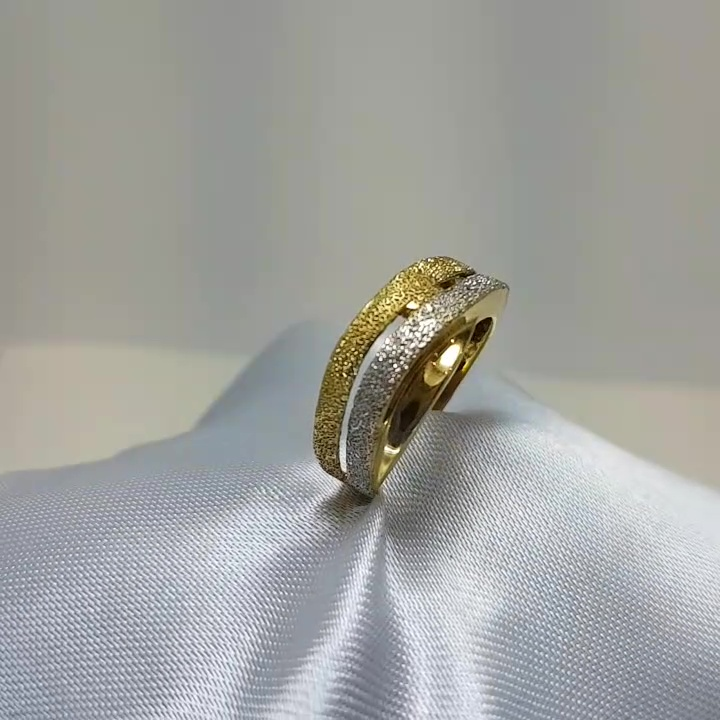Ring 5: (290, 230, 516, 529)
